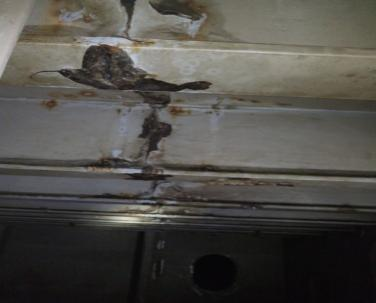corrosion: (45, 42, 211, 90), (89, 185, 249, 206), (139, 1, 221, 40), (134, 105, 174, 166), (195, 167, 290, 189), (58, 1, 119, 34), (78, 154, 141, 168), (162, 104, 191, 123), (168, 158, 229, 167), (138, 91, 163, 108), (31, 99, 56, 116)
